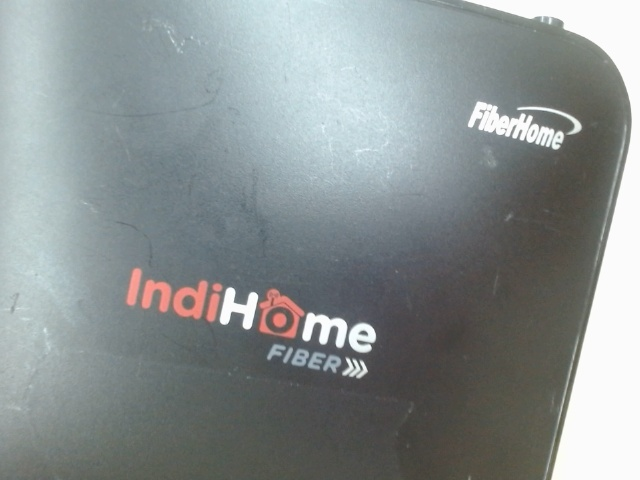AF_IndiHome: (108, 254, 377, 386)
